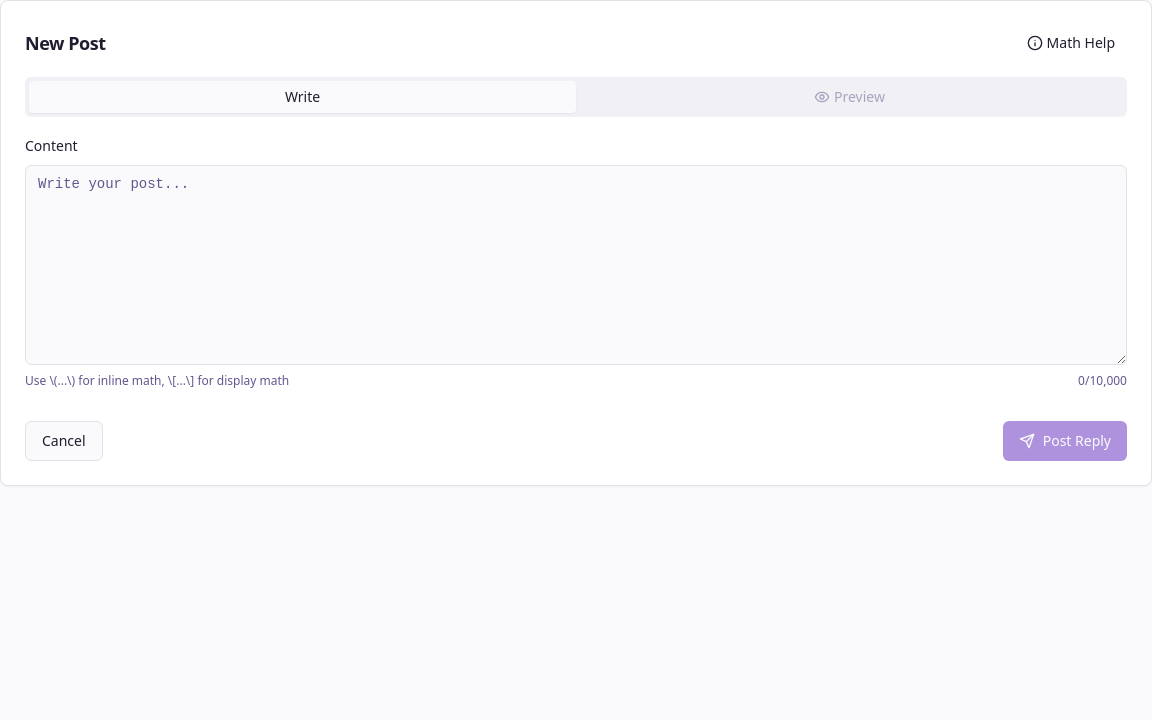
PostComposer › inserts math template when clicked
# Open math help
Click the button "Math Help".
click(1071, 43)  # box [1015,25,1127,61]
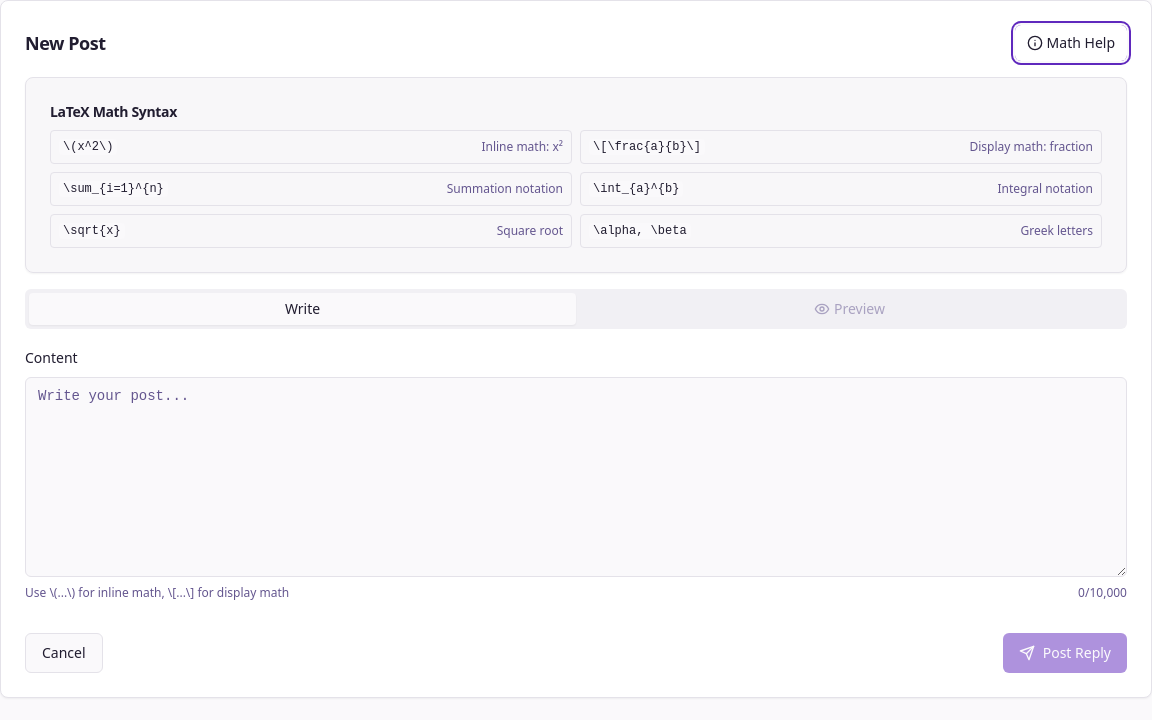
# Click on a math template
Click the text "\\(x^2\\)".
click(311, 147)  # box [50,130,572,164]
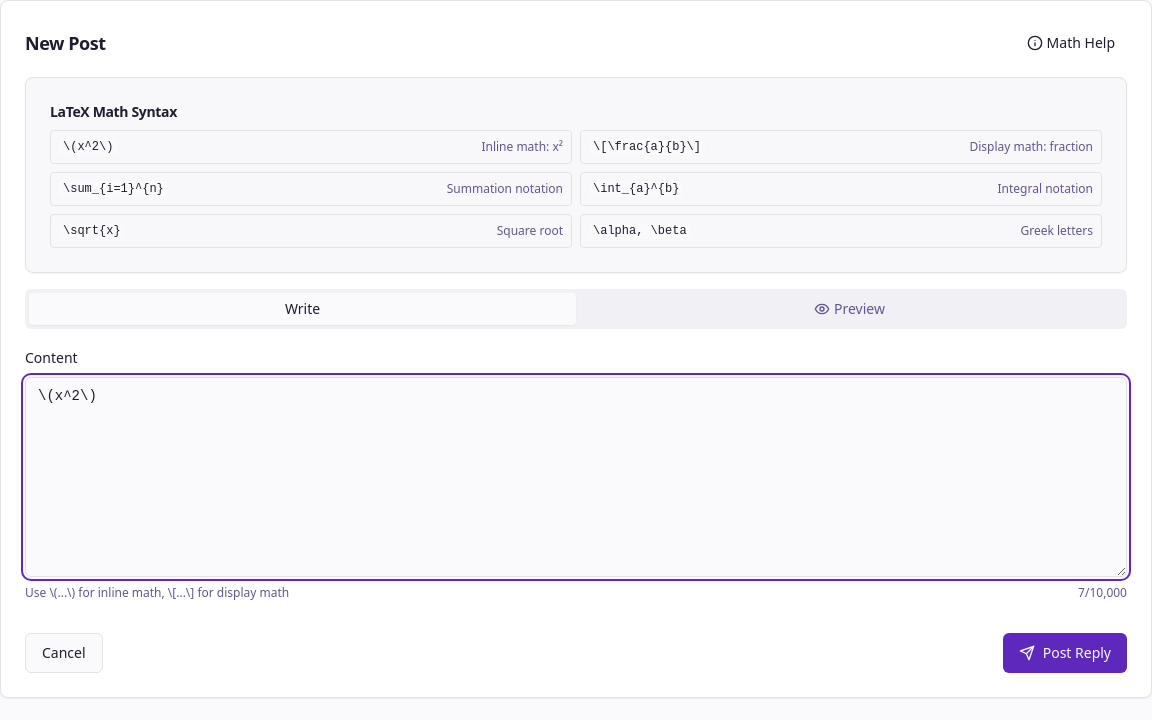
expect the text box with placeholder "Write your post..." holds "\\(x^2\\)": met, box [25,377,1127,577]
